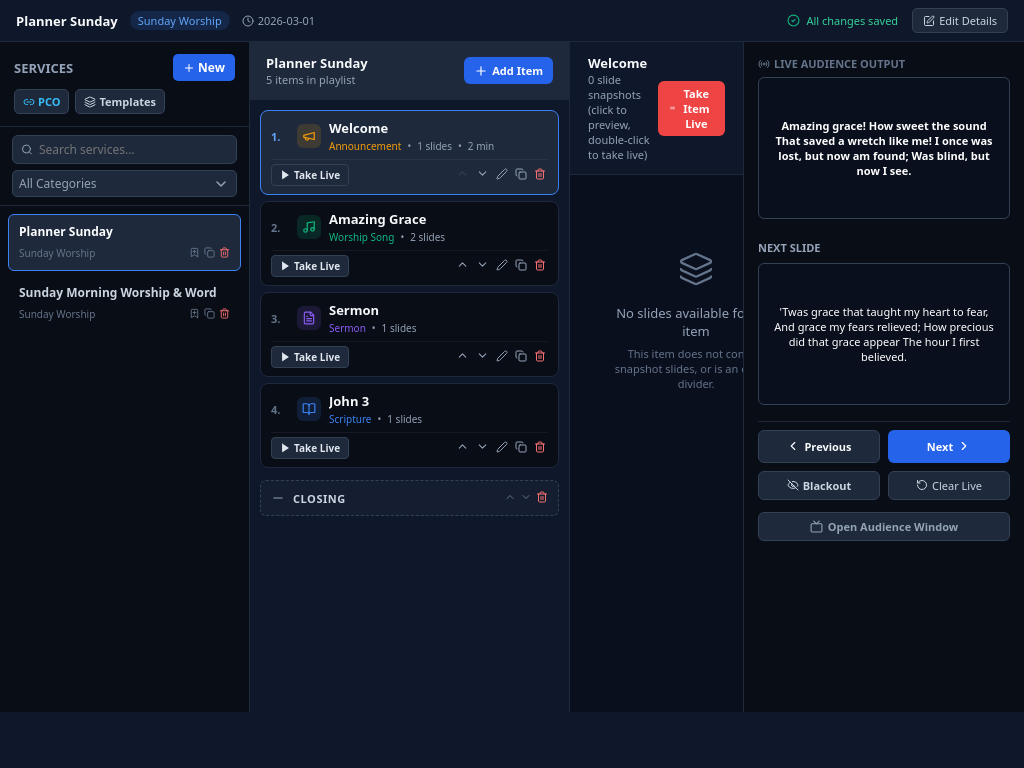
Test: service planner › saves a service as a template and starts a new one from it
Click the 1st button with test id "save-as-template-btn". click: (194, 253)
box: x1=189 y1=244 x2=200 y2=262
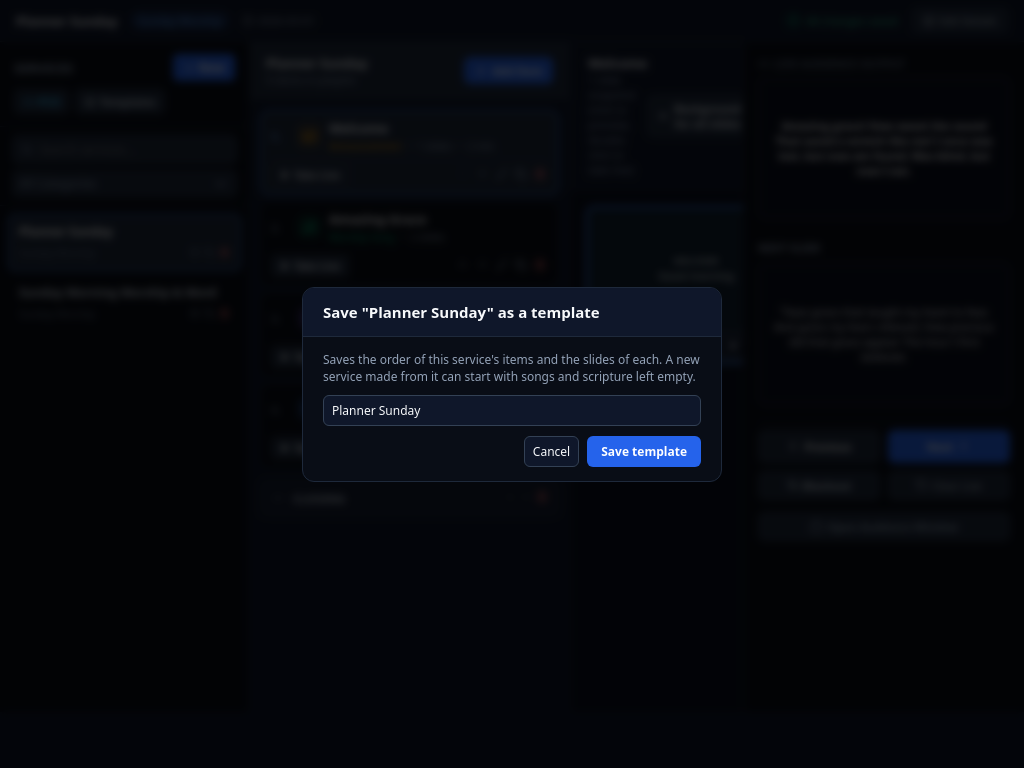
Replace the text in the field with test id "save-template-name" with "Planner Template". click: (512, 410)
box: x1=323 y1=394 x2=701 y2=426
Click the button with test id "save-template-confirm". click: (644, 451)
box: x1=587 y1=436 x2=701 y2=466
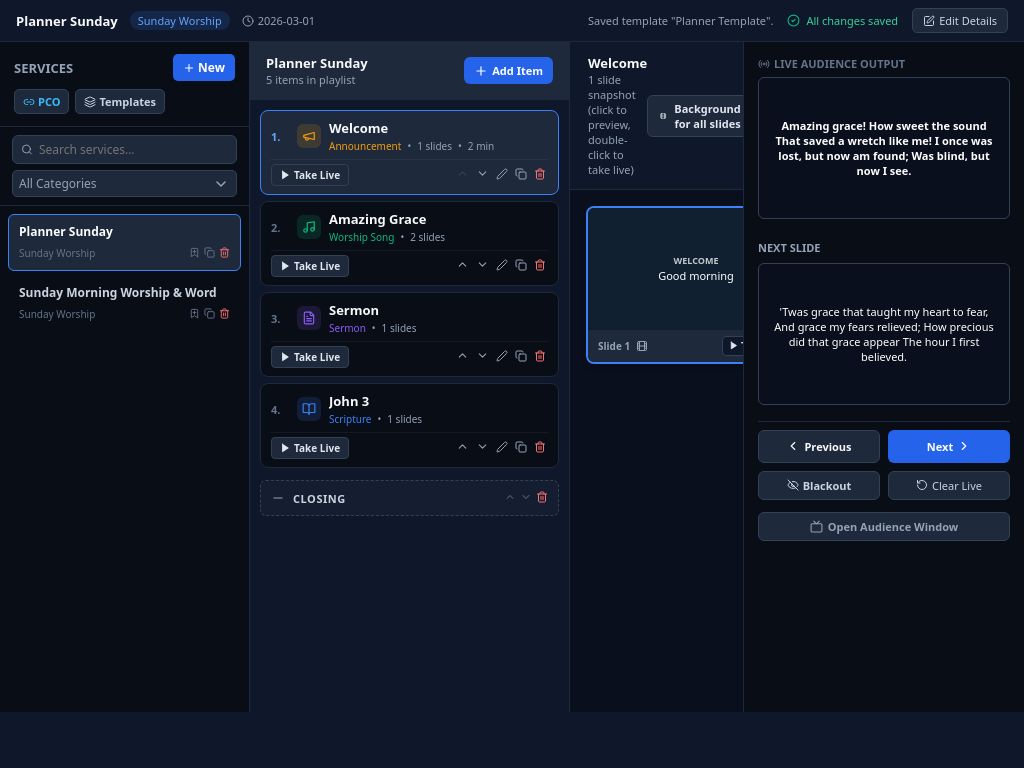
Check: the text "Saved template \"Planner Template\"." is shown, box x1=588 y1=13 x2=773 y2=28
Click the button with test id "from-template-btn". click: (120, 102)
box: x1=76 y1=89 x2=165 y2=114
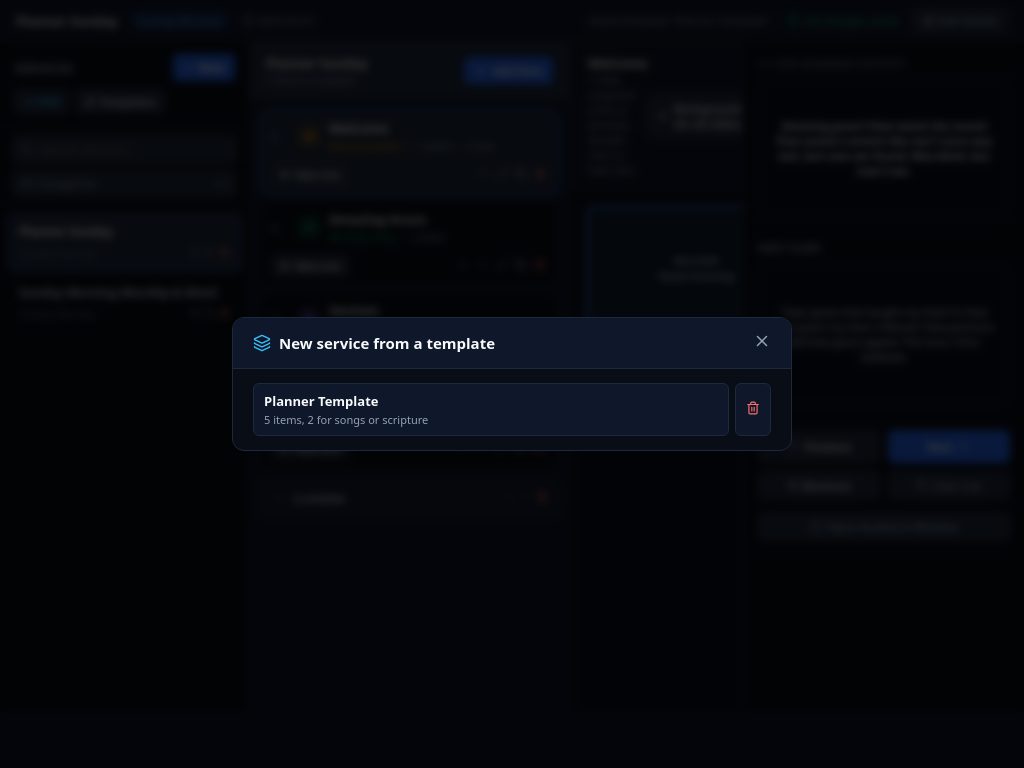
Click the button with test id "template-choice". click: (321, 401)
box: x1=253 y1=383 x2=729 y2=436
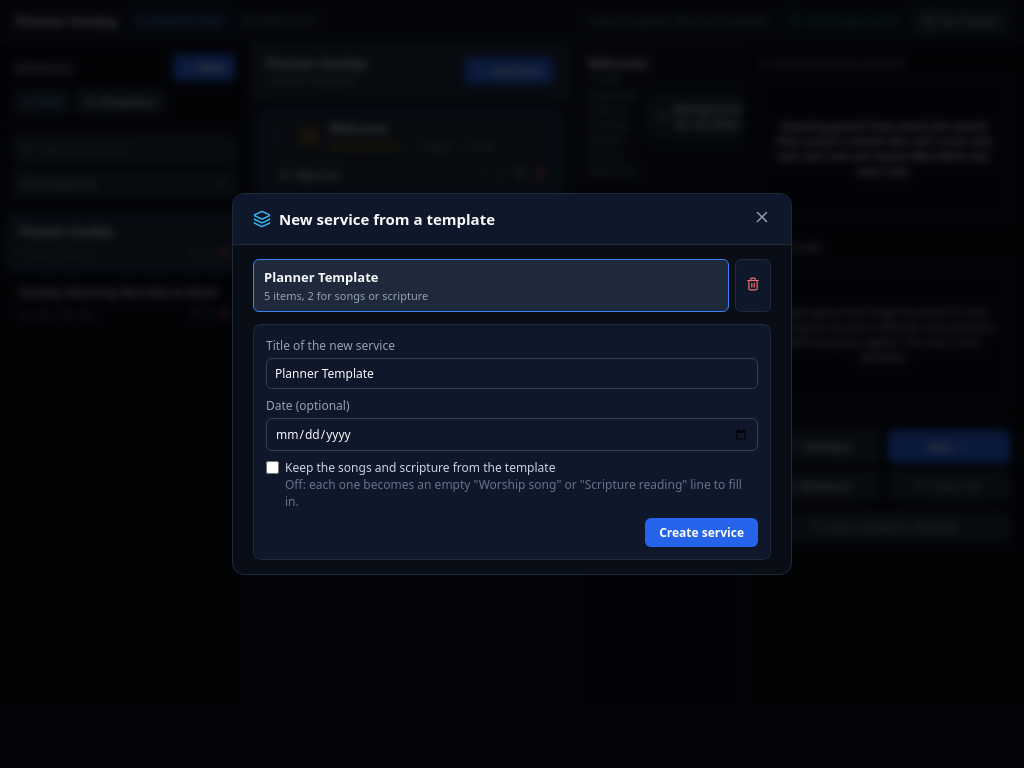
Replace the text in the field with test id "template-title" with "Made From Template". click: (512, 374)
box: x1=266 y1=358 x2=758 y2=389
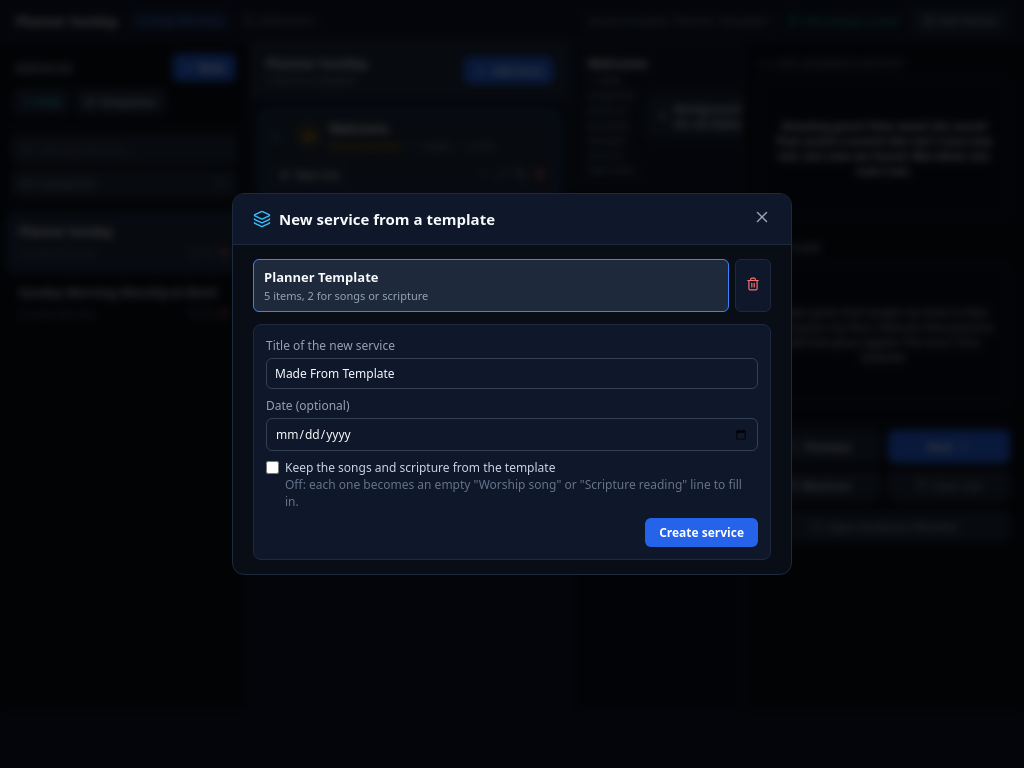
Click the button with test id "template-create". click: (702, 532)
box: x1=645 y1=518 x2=758 y2=547
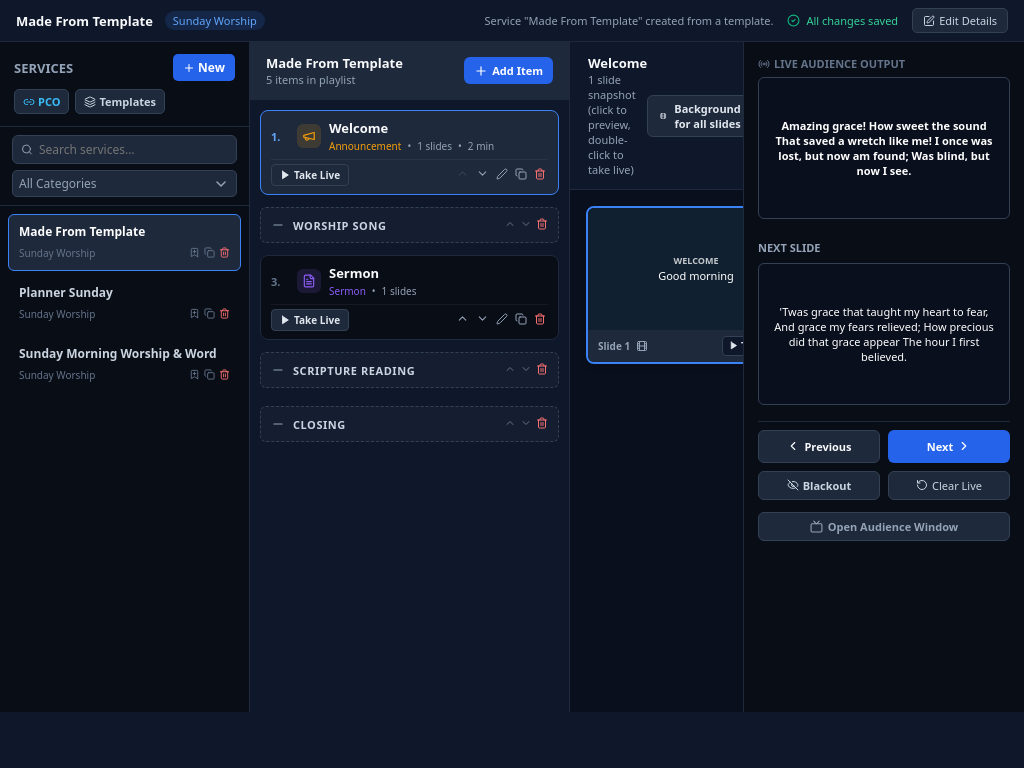
Check: the text "Service \"Made From Template\" created from a template." is shown, box x1=484 y1=13 x2=774 y2=28
